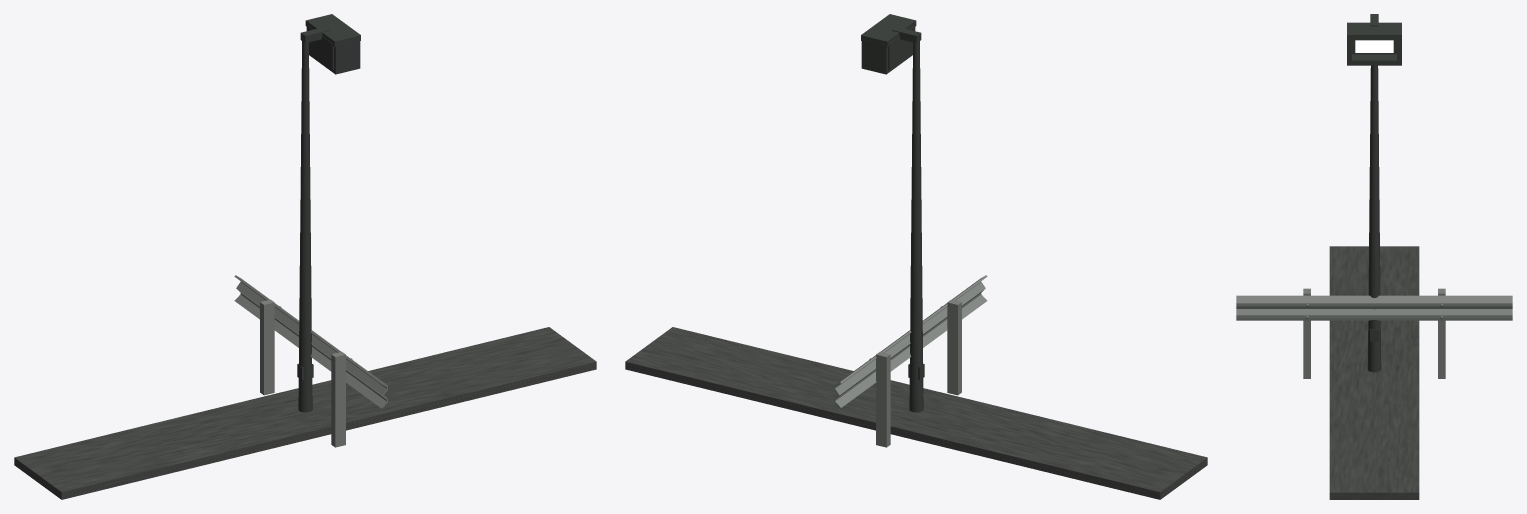
The model's file is cut-roadside.glb.
The picture shows the model from 3 angles, left to right: view 1: azimuth 30°, elevation 25°; view 2: azimuth 150°, elevation 25°; view 3: azimuth 270°, elevation 25°; orthographic projection. The views are drawn at different scales.
Visible parts, largest first — view 1: drive_plain_paving, cut_inspection_lamp, cut_guardrail; view 2: drive_plain_paving, cut_inspection_lamp, cut_guardrail; view 3: drive_plain_paving, cut_guardrail, cut_inspection_lamp.
Boxes of the visible parts, box(x1,y1,x2,y2) form: drive_plain_paving: box(14, 327, 596, 499); cut_inspection_lamp: box(297, 14, 360, 412); cut_guardrail: box(234, 275, 387, 447); drive_plain_paving: box(625, 327, 1207, 499); cut_inspection_lamp: box(861, 14, 924, 412); cut_guardrail: box(834, 275, 987, 447); drive_plain_paving: box(1329, 246, 1419, 499); cut_guardrail: box(1236, 288, 1512, 378); cut_inspection_lamp: box(1347, 14, 1401, 372).
Size of the model in its own units: 6.5 by 4.46 by 3.08.
4 materials, 1 textured.
